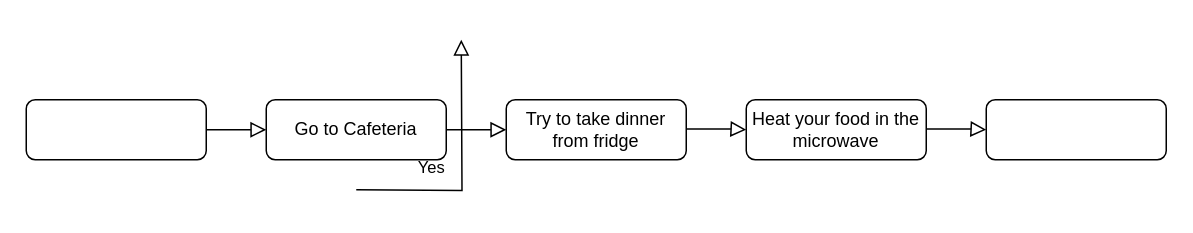
The diagram is 1193 pixels wide and 233 high, and some of its shapes have lost their labels. The shapes that lost their labels are listed below. From the top down, each one's centre as x and y in pixels, then its label:
At (115,129): "lunch rush start".
At (1075,129): "Eat".
